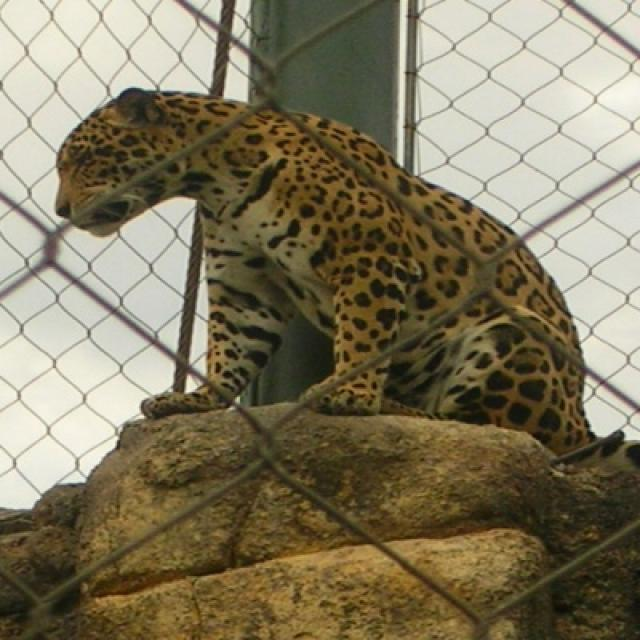Jaguar: (44, 83, 637, 481)
